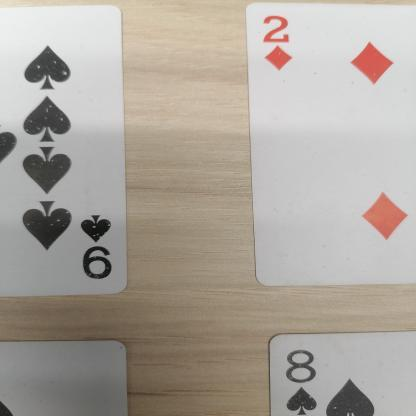2D: (260, 13, 308, 73)
8S: (280, 340, 331, 416)
9S: (78, 198, 116, 300)
